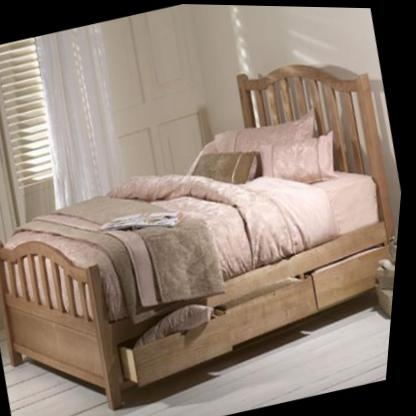Bed: (2, 63, 397, 411)
